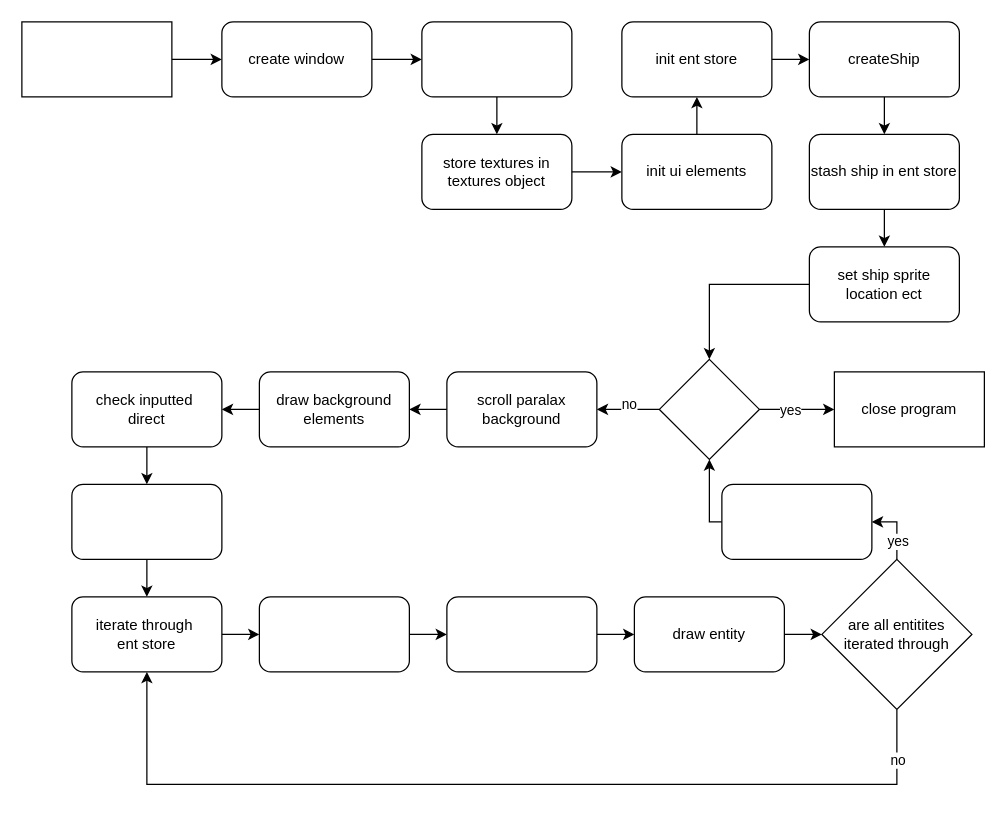
Image size: 1006x816. Some labels were removed from this diagram. The shapes that lost their labels are listed below. From the top down, each one's centre as x and y in pixels, then its label:
At point (96, 59): "main".
At point (496, 59): "Get Textures from files".
At point (708, 408): "esc pressed?".
At point (146, 521): "accell ship in inputed direction".
At point (796, 521): "draw ui".
At point (333, 634): "move entity by stored velocity".
At point (521, 634): "ensure entity is within bounds".
